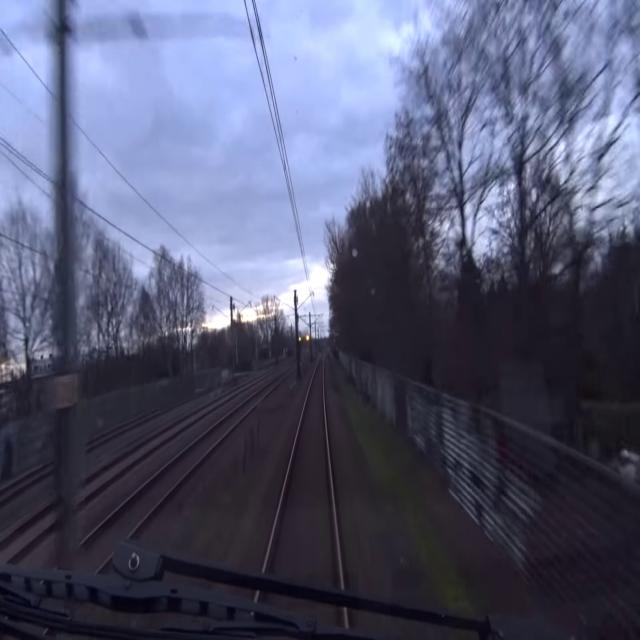rail-track: (75, 385, 272, 569), (267, 356, 339, 581), (80, 420, 189, 496), (0, 505, 56, 559)
